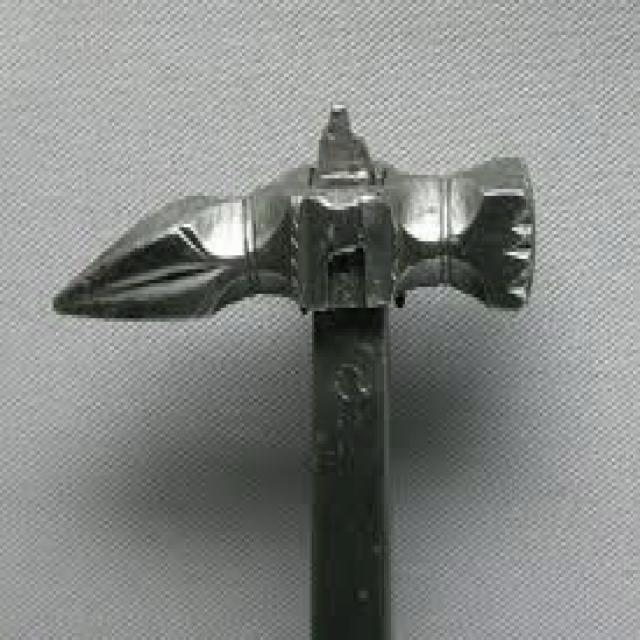hammer: (50, 94, 546, 640)
